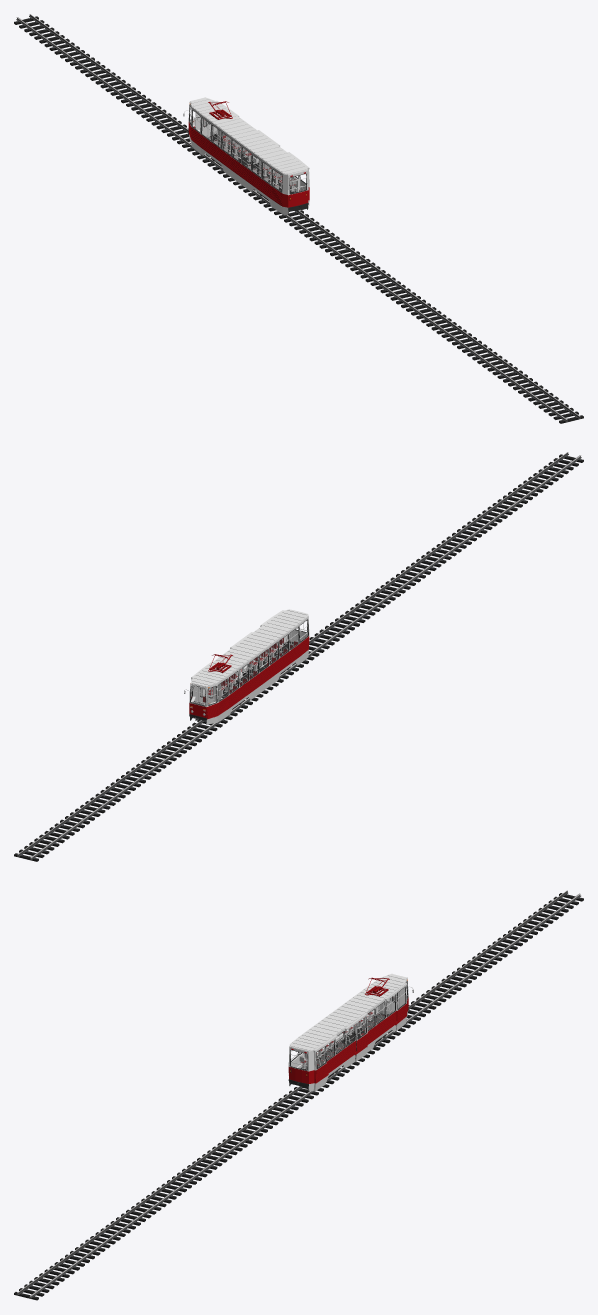
File: ktm5_71-605.glb
The picture shows the model from 3 angles, top to bottom: view 1: azimuth 30°, elevation 25°; view 2: azimuth 150°, elevation 25°; view 3: azimuth 330°, elevation 25°; orthographic projection.
Visible parts, largest first — view 1: Object_2, Object_12, Object_11, Object_19, Object_20, Object_16; view 2: Object_2, Object_12, Object_11, Object_19, Object_20, Object_16; view 3: Object_2, Object_20, Object_12, Object_11, Object_16, Object_14.
Boxes of the visible parts, x1,y1,x2,y2 form: Object_2: (14,14,583,423); Object_12: (183,97,307,210); Object_11: (188,99,305,215); Object_19: (191,100,309,207); Object_20: (191,113,309,210); Object_16: (191,98,306,173); Object_2: (14,452,583,861); Object_12: (190,609,309,717); Object_11: (198,611,309,724); Object_19: (184,610,308,714); Object_20: (189,617,308,720); Object_16: (192,609,297,711); Object_2: (14,890,583,1300); Object_20: (296,978,408,1091); Object_12: (290,974,407,1089); Object_11: (288,973,399,1085); Object_16: (300,977,405,1052); Object_14: (315,1016,386,1091).
Bounding box in the file's own units: 3.44 × 6.59 × 108.
Materials: 2 (2 with a texture image).
